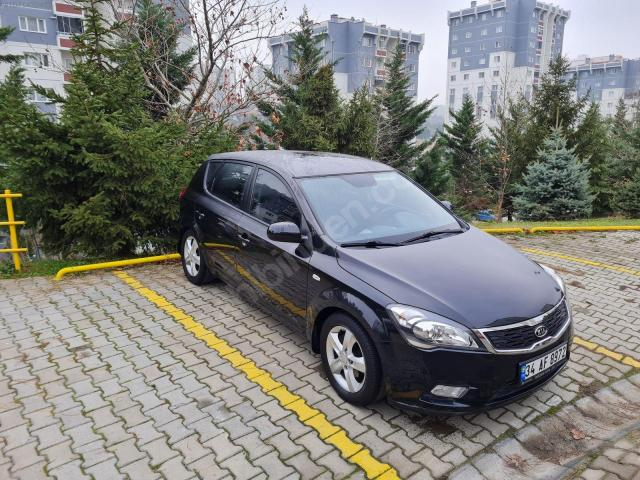plaka: (520, 345, 566, 382)
